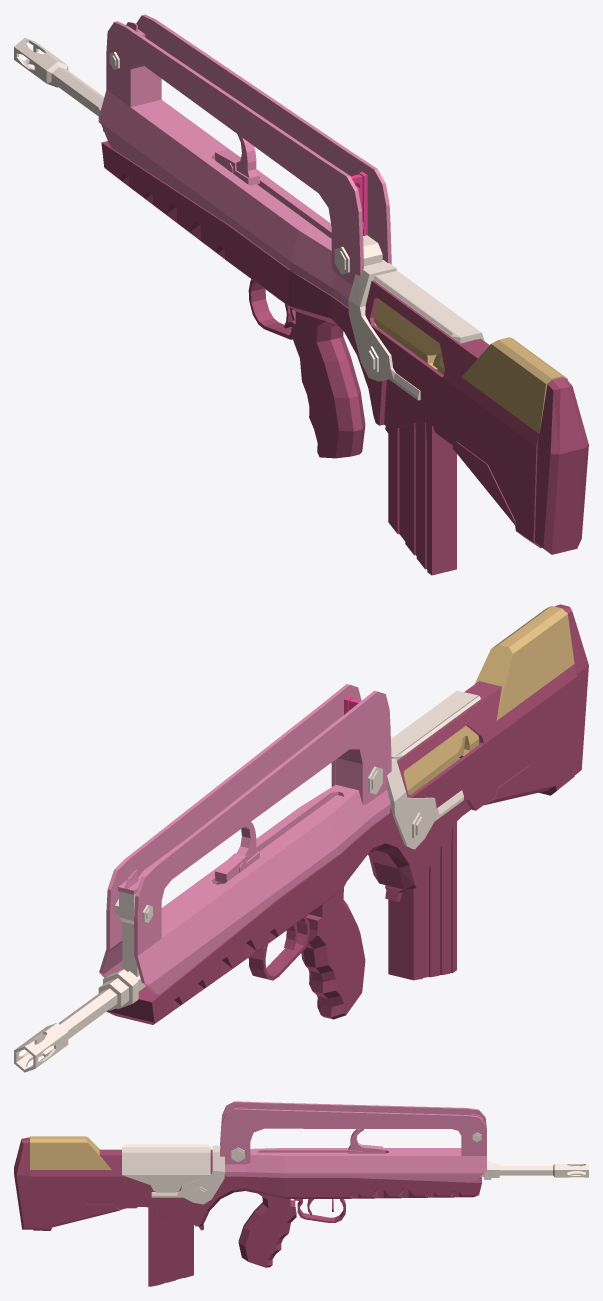
The model's file is Rifle_FAMAS.obj.
The picture shows the model from 3 angles, top to bottom: view 1: azimuth 30°, elevation 25°; view 2: azimuth 150°, elevation 25°; view 3: azimuth 270°, elevation 25°; orthographic projection. The views are drawn at different scales.
Visible parts, largest first — view 1: Mag, Body, Panel, Bolt, Grip; view 2: Mag, Body, Panel, Bolt, Grip; view 3: Mag, Body, Panel, Bolt, Grip.
Boxes of the visible parts, x1,y1,x2,y2 form: Mag: [101, 141, 588, 575]; Body: [99, 14, 391, 307]; Panel: [14, 38, 484, 400]; Bolt: [373, 298, 567, 433]; Grip: [248, 279, 295, 339]; Mag: [106, 604, 588, 1024]; Body: [99, 684, 391, 994]; Panel: [14, 690, 480, 1072]; Bolt: [403, 606, 574, 794]; Grip: [248, 916, 309, 980]; Mag: [14, 1137, 481, 1286]; Body: [220, 1101, 486, 1182]; Panel: [122, 1132, 588, 1204]; Bolt: [30, 1136, 111, 1170]; Grip: [293, 1198, 351, 1222].
Bounding box in the file's own units: 0.1925 × 1.16 × 3.4.
